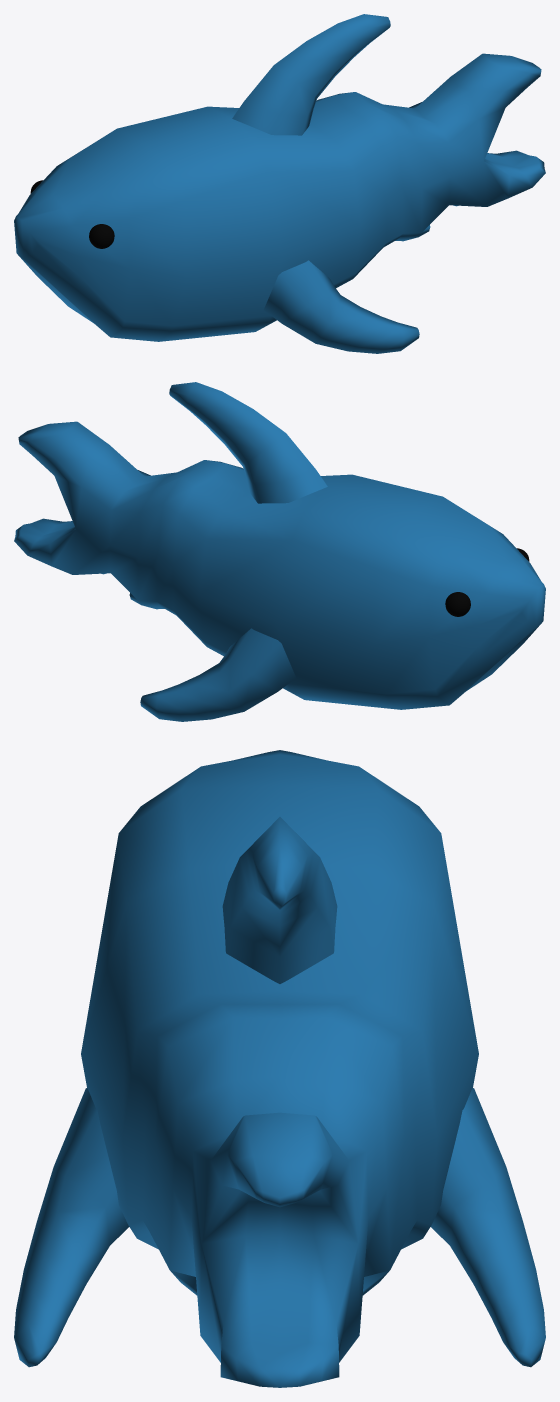
File: SHARK.fbx
The picture shows the model from 3 angles, top to bottom: view 1: azimuth 30°, elevation 25°; view 2: azimuth 150°, elevation 25°; view 3: azimuth 270°, elevation 25°; orthographic projection. The views are drawn at different scales.
Parts seen in each view (by area): view 1: fin; view 2: fin; view 3: fin.
Boxes of the visible parts, x1,y1,x2,y2 form: fin: (14, 14, 545, 353); fin: (14, 382, 545, 721); fin: (14, 750, 545, 1387).
Bounding box in the file's own units: 190 × 97.01 × 86.08.
